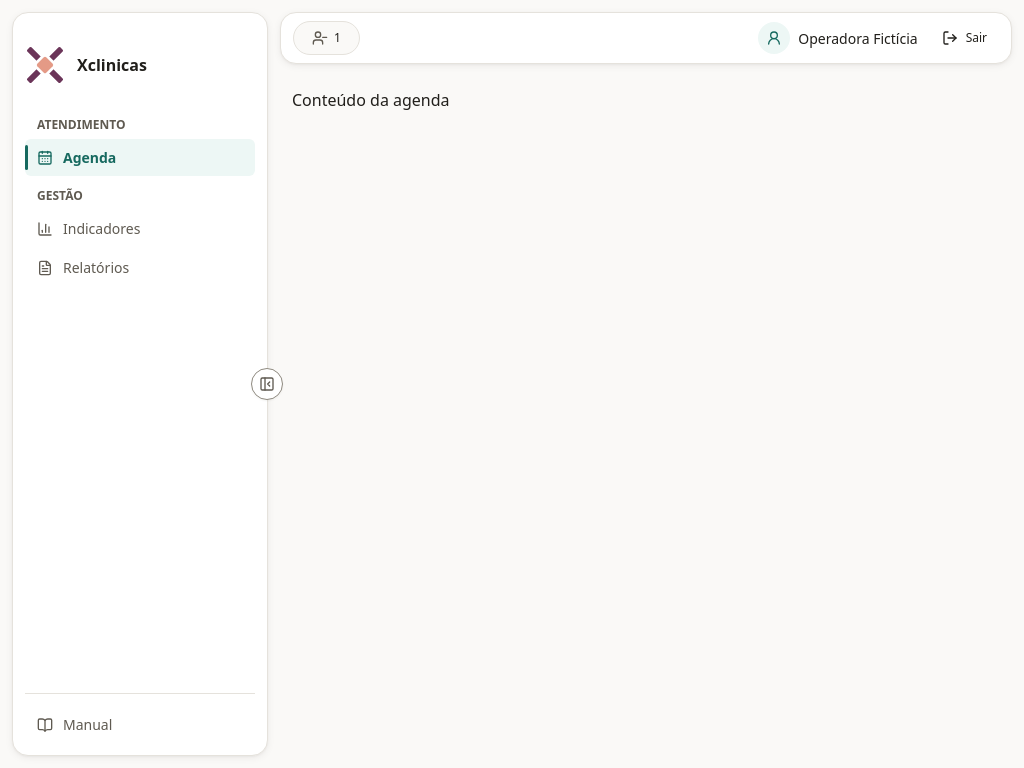
Test: AppShell — painéis de notificação › deve NÃO linkar a ficha nas faltas consecutivas sem `pacientes.ver`
The width and height of the screenshot is (1024, 768).
Click the button named "Faltas consecutivas". click: click(326, 38)
box: [304, 26, 349, 50]
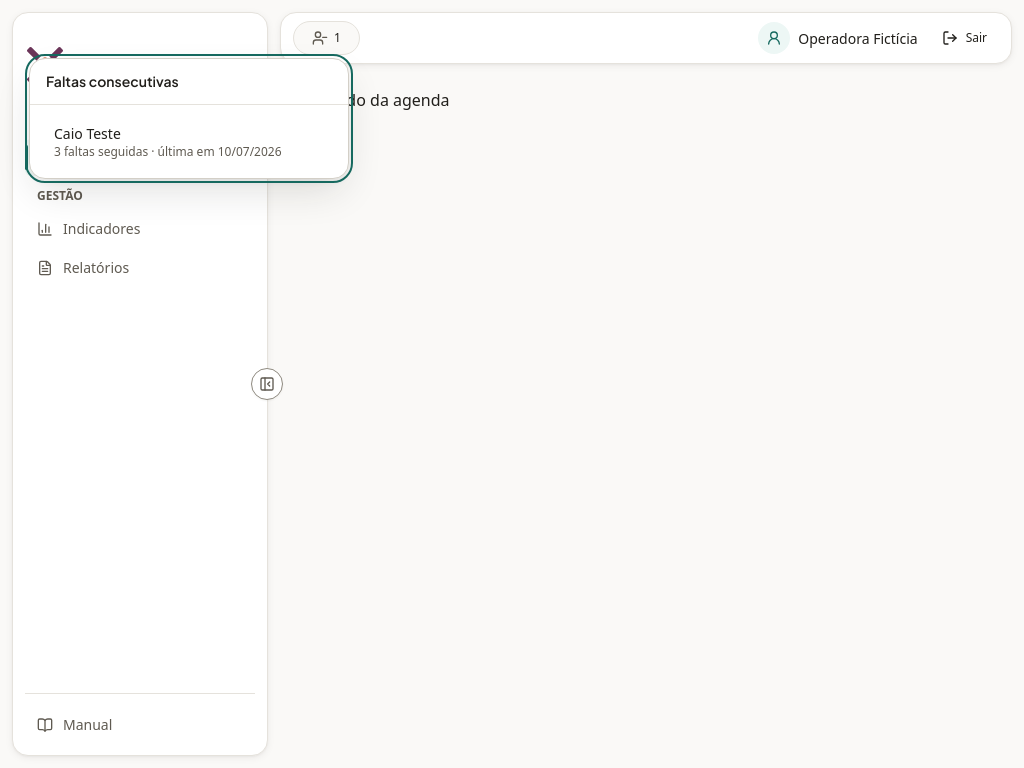
expect the dialog "Faltas consecutivas" shows "Caio Teste": met, box [54, 124, 121, 143]
expect the dialog "Faltas consecutivas" shows "3 faltas seguidas": met, box [29, 58, 349, 179]
expect the dialog "Faltas consecutivas" shows "10/07/2026": met, box [218, 143, 282, 160]
